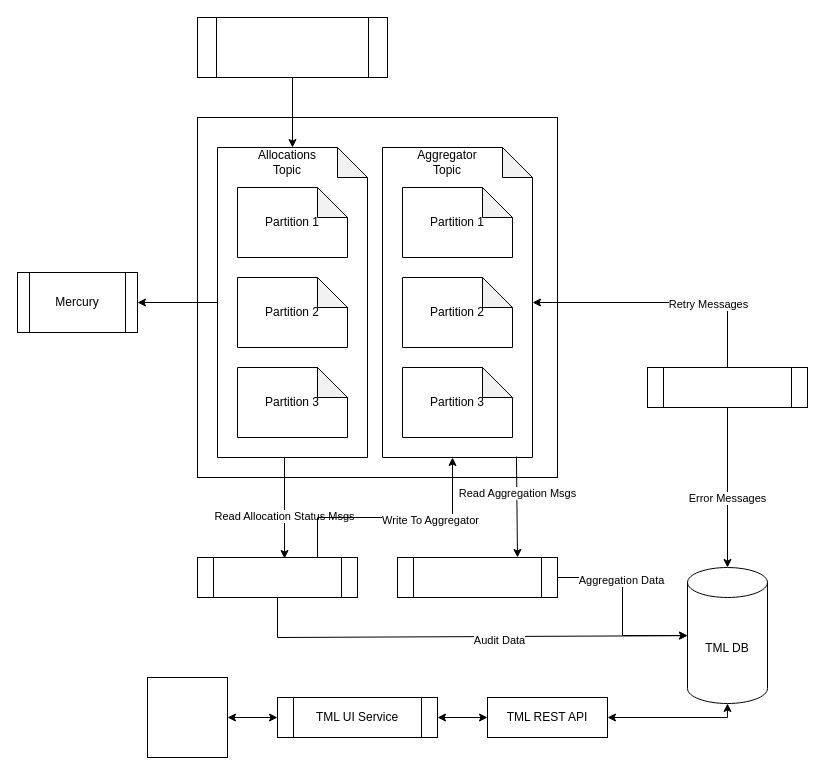
Image size: 825x775. Some labels were removed from this diagram. The centre of each missing label's shape, as x and y in pixels:
TML Aggregator Service: the point at 477,577
TML Alloc Audit Service: the point at 277,577
TML Producer: the point at 292,47
TML Retry Service: the point at 727,387
TML UI: the point at 187,717
